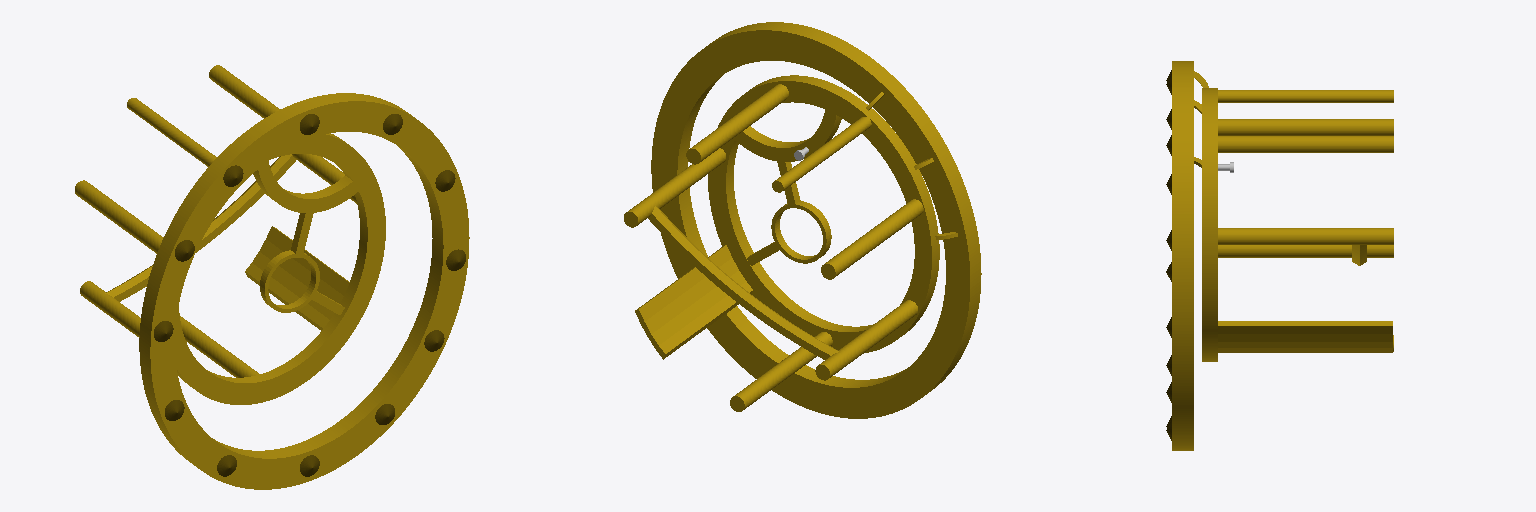
File: clock_body_front.obj
The picture shows the model from 3 angles: view 1: azimuth 30°, elevation 25°; view 2: azimuth 150°, elevation 25°; view 3: azimuth 270°, elevation 25°; orthographic projection.
Visible parts, largest first — view 1: Cylinder.022_Cylinder, Cylinder.026_Cylinder.025, Cylinder.008_Cylinder.009, Cylinder.027_Cylinder.026, Cylinder_Cylinder.020, Torus.004, Cylinder.015_Cylinder.017, Cylinder.013_Cylinder.015, Cylinder.009_Cylinder.011, Cylinder.011_Cylinder.013, Cylinder.014_Cylinder.016, Cylinder.012_Cylinder.014; view 2: Cylinder.022_Cylinder, Cylinder.026_Cylinder.025, Cylinder.008_Cylinder.009, Torus.004, Cylinder.015_Cylinder.017, Cylinder.011_Cylinder.013, Cylinder.014_Cylinder.016, Cylinder.027_Cylinder.026, Cylinder_Cylinder.020, Cylinder.012_Cylinder.014, Cylinder.013_Cylinder.015, Cylinder.009_Cylinder.011; view 3: Cylinder.022_Cylinder, Cylinder.008_Cylinder.009, Cylinder.026_Cylinder.025, Cylinder.011_Cylinder.013, Cylinder.012_Cylinder.014, Cylinder.015_Cylinder.017, Cylinder.009_Cylinder.011, Cylinder.014_Cylinder.016.
Boxes of the visible parts, x1=… form: Cylinder.022_Cylinder: x1=139, y1=93, x2=469, y2=489; Cylinder.026_Cylinder.025: x1=175, y1=133, x2=385, y2=404; Cylinder.008_Cylinder.009: x1=245, y1=226, x2=349, y2=330; Cylinder.027_Cylinder.026: x1=253, y1=161, x2=365, y2=212; Cylinder_Cylinder.020: x1=260, y1=213, x2=344, y2=314; Torus.004: x1=105, y1=154, x2=295, y2=301; Cylinder.015_Cylinder.017: x1=75, y1=180, x2=163, y2=253; Cylinder.013_Cylinder.015: x1=180, y1=316, x2=259, y2=377; Cylinder.009_Cylinder.011: x1=127, y1=98, x2=216, y2=166; Cylinder.011_Cylinder.013: x1=209, y1=65, x2=280, y2=118; Cylinder.014_Cylinder.016: x1=80, y1=281, x2=140, y2=337; Cylinder.012_Cylinder.014: x1=292, y1=154, x2=356, y2=203; Cylinder.022_Cylinder: x1=651, y1=22, x2=981, y2=418; Cylinder.026_Cylinder.025: x1=708, y1=75, x2=939, y2=352; Cylinder.008_Cylinder.009: x1=635, y1=245, x2=752, y2=359; Torus.004: x1=648, y1=206, x2=838, y2=359; Cylinder.015_Cylinder.017: x1=821, y1=199, x2=923, y2=279; Cylinder.011_Cylinder.013: x1=686, y1=84, x2=788, y2=164; Cylinder.014_Cylinder.016: x1=815, y1=300, x2=917, y2=380; Cylinder.027_Cylinder.026: x1=735, y1=110, x2=841, y2=161; Cylinder_Cylinder.020: x1=747, y1=162, x2=831, y2=265; Cylinder.012_Cylinder.014: x1=624, y1=148, x2=725, y2=227; Cylinder.013_Cylinder.015: x1=730, y1=332, x2=832, y2=411; Cylinder.009_Cylinder.011: x1=772, y1=117, x2=871, y2=192; Cylinder.022_Cylinder: x1=1172, y1=61, x2=1193, y2=450; Cylinder.008_Cylinder.009: x1=1218, y1=321, x2=1392, y2=352; Cylinder.026_Cylinder.025: x1=1202, y1=88, x2=1217, y2=361; Cylinder.011_Cylinder.013: x1=1218, y1=119, x2=1393, y2=135; Cylinder.012_Cylinder.014: x1=1218, y1=228, x2=1393, y2=244; Cylinder.015_Cylinder.017: x1=1218, y1=136, x2=1393, y2=152; Cylinder.009_Cylinder.011: x1=1218, y1=90, x2=1393, y2=102; Cylinder.014_Cylinder.016: x1=1218, y1=245, x2=1393, y2=257.
Bounding box in the file's own units: 3.81 × 4.26 × 2.36.